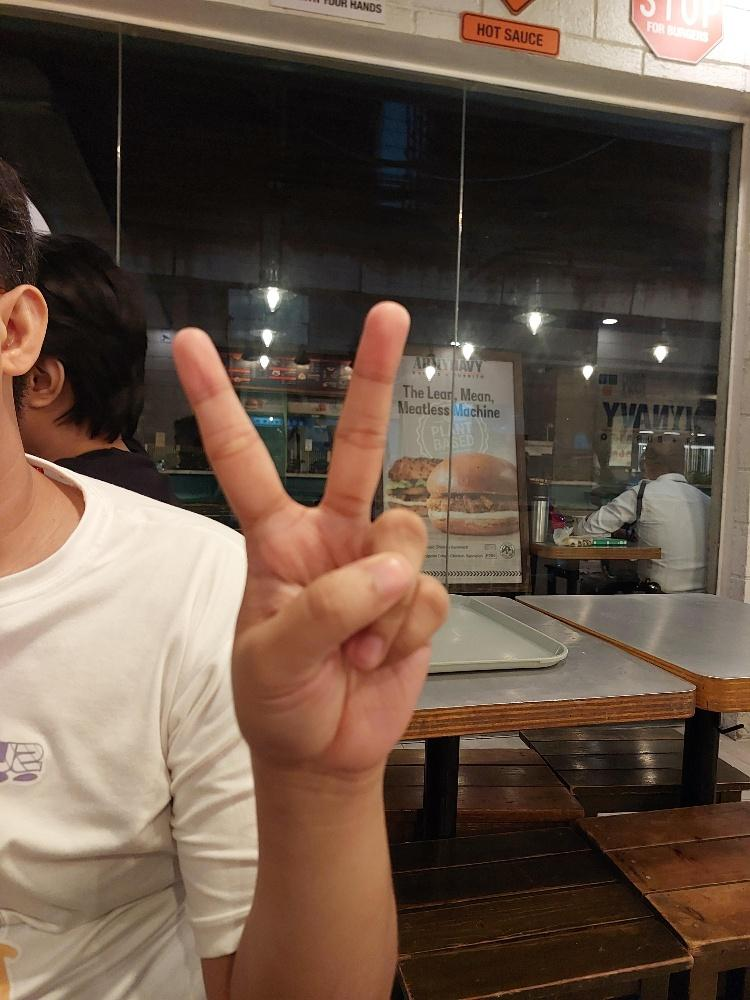v: (168, 297, 450, 780)
